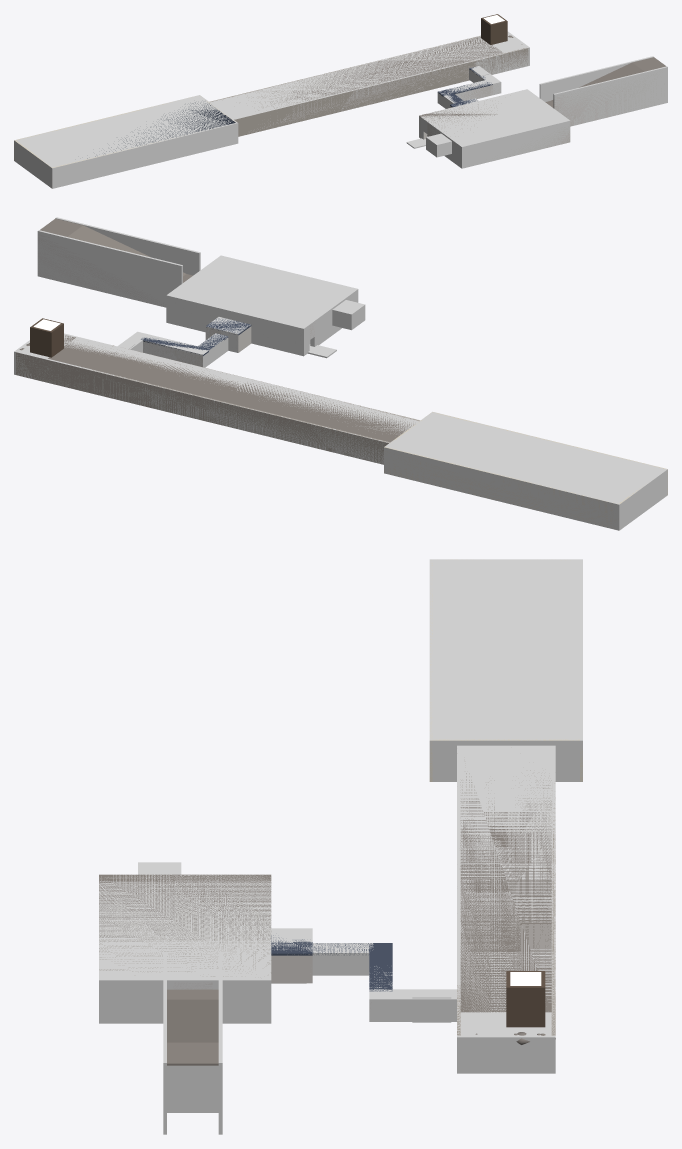
The model's file is m2_subway.glb.
3 renders of one model, top to bottom at view 1: azimuth 30°, elevation 25°; view 2: azimuth 150°, elevation 25°; view 3: azimuth 270°, elevation 25°, orthographic. The views are drawn at different scales.
Visible parts, largest first — view 1: COL_station_009, COL_tunnel_057, tunnel_tunnel, COL_armory_192, COL_station_002, COL_ramp_256, tunnel_tunnel_d, COL_armory_197, ramp_concrete, COL_tunnel_053, COL_ramp_257, station_navy (+12 smaller); view 2: COL_station_009, tunnel_tunnel, tunnel_tunnel_d, COL_armory_192, COL_ramp_257, COL_station_003, COL_tunnel_052, COL_tunnel_057, station_tile, COL_ramp_256, COL_armory_193, COL_armory_196 (+10 smaller); view 3: COL_station_009, COL_tunnel_057, COL_armory_192, tunnel_tunnel_d, armory_tunnel_d, ramp_tunnel_d, COL_tunnel_075, COL_armory_198, passage_navy_l, tunnel_soil_d, COL_armory_201, COL_passage_169 (+13 smaller).
Part boxes in pixels (<box>): COL_station_009: <box>16,96,232,167</box>; COL_tunnel_057: <box>210,36,502,118</box>; tunnel_tunnel: <box>209,35,528,136</box>; COL_armory_192: <box>419,89,570,147</box>; COL_station_002: <box>51,122,238,188</box>; COL_ramp_256: <box>553,66,667,126</box>; tunnel_tunnel_d: <box>253,37,502,110</box>; COL_armory_197: <box>460,122,570,168</box>; ramp_concrete: <box>553,73,664,126</box>; COL_tunnel_053: <box>233,61,471,132</box>; COL_ramp_257: <box>539,56,653,101</box>; station_navy: <box>87,102,235,158</box>; COL_station_009: <box>387,413,664,503</box>; tunnel_tunnel: <box>16,345,419,464</box>; tunnel_tunnel_d: <box>19,335,413,442</box>; COL_armory_192: <box>166,255,358,329</box>; COL_ramp_257: <box>37,230,182,307</box>; COL_station_003: <box>384,446,620,530</box>; COL_tunnel_052: <box>16,351,388,464</box>; COL_tunnel_057: <box>65,337,418,434</box>; station_tile: <box>384,412,667,529</box>; COL_ramp_256: <box>55,217,200,275</box>; COL_armory_193: <box>240,315,306,356</box>; COL_armory_196: <box>166,296,229,332</box>; COL_station_009: <box>432,560,579,739</box>; COL_tunnel_057: <box>460,745,551,1012</box>; COL_armory_192: <box>99,874,271,982</box>; tunnel_tunnel_d: <box>460,770,551,1035</box>; armory_tunnel_d: <box>99,874,271,976</box>; ramp_tunnel_d: <box>167,989,218,1065</box>; COL_tunnel_075: <box>457,1035,555,1073</box>; COL_armory_198: <box>106,982,173,1023</box>; passage_navy_l: <box>271,935,392,991</box>; tunnel_soil_d: <box>506,971,545,1027</box>; COL_armory_201: <box>212,982,263,1023</box>; COL_passage_169: <box>371,1001,456,1021</box>.
Bounding box in the file's own units: 162 × 11 × 61.8.
